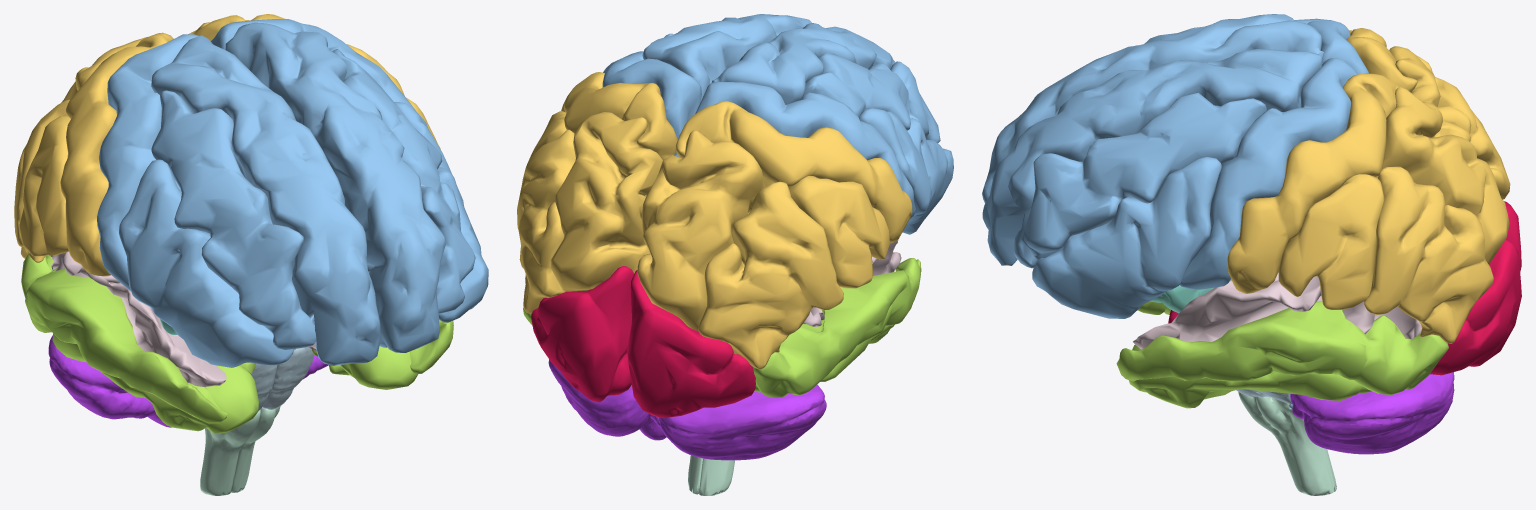
The model's file is brain.glb.
3 renders of one model, left to right at view 1: azimuth 30°, elevation 25°; view 2: azimuth 150°, elevation 25°; view 3: azimuth 270°, elevation 25°, orthographic. The views are drawn at different scales.
Visible parts, largest first — view 1: frontal_lobe.R, frontal_lobe.L, temporal_lobe.R, parietal_lobe.R, cerebrum_other, cerebellum, medulla, temporal_lobe.L, pons, parietal_lobe.L; view 2: parietal_lobe.R, parietal_lobe.L, frontal_lobe.R, cerebellum, occipital_lobe.R, temporal_lobe.R, occipital_lobe.L, frontal_lobe.L, medulla, cerebrum_other; view 3: frontal_lobe.L, parietal_lobe.L, temporal_lobe.L, frontal_lobe.R, cerebellum, cerebrum_other, parietal_lobe.R, occipital_lobe.L, medulla, insula.L.
Part boxes in pixels (<box>): frontal_lobe.R: <box>97,34,380,367</box>; frontal_lobe.L: <box>211,19,488,352</box>; temporal_lobe.R: <box>21,254,258,433</box>; parietal_lobe.R: <box>14,32,173,276</box>; cerebrum_other: <box>51,251,316,386</box>; cerebellum: <box>48,335,328,427</box>; medulla: <box>200,406,280,495</box>; temporal_lobe.L: <box>312,320,453,389</box>; pons: <box>251,347,313,410</box>; parietal_lobe.L: <box>188,14,440,149</box>; parietal_lobe.R: <box>637,101,912,369</box>; parietal_lobe.L: <box>517,72,677,313</box>; frontal_lobe.R: <box>695,23,953,234</box>; cerebellum: <box>548,359,826,460</box>; occipital_lobe.R: <box>627,270,755,418</box>; temporal_lobe.R: <box>752,258,921,397</box>; occipital_lobe.L: <box>531,266,633,402</box>; frontal_lobe.L: <box>602,14,811,157</box>; medulla: <box>688,455,734,495</box>; cerebrum_other: <box>803,240,901,327</box>; frontal_lobe.L: <box>982,49,1357,318</box>; parietal_lobe.L: <box>1227,73,1509,343</box>; temporal_lobe.L: <box>1116,301,1448,408</box>; frontal_lobe.R: <box>982,14,1368,203</box>; cerebellum: <box>1290,372,1454,454</box>; cerebrum_other: <box>1133,272,1421,349</box>; parietal_lobe.R: <box>1346,28,1510,199</box>; occipital_lobe.L: <box>1430,239,1521,375</box>; medulla: <box>1238,392,1336,495</box>; insula.L: <box>1150,279,1231,313</box>.
Bounding box in the file's own units: 0.1388 × 0.1658 × 0.18.
